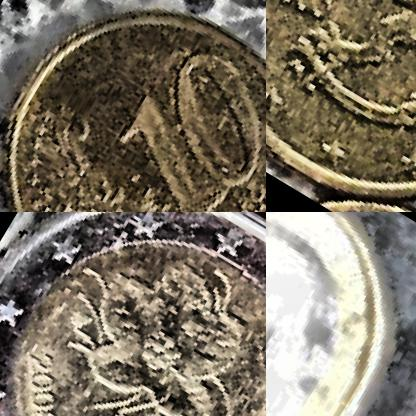coin: (0, 0, 265, 211), (0, 212, 265, 415), (266, 0, 415, 211), (266, 212, 415, 415)
